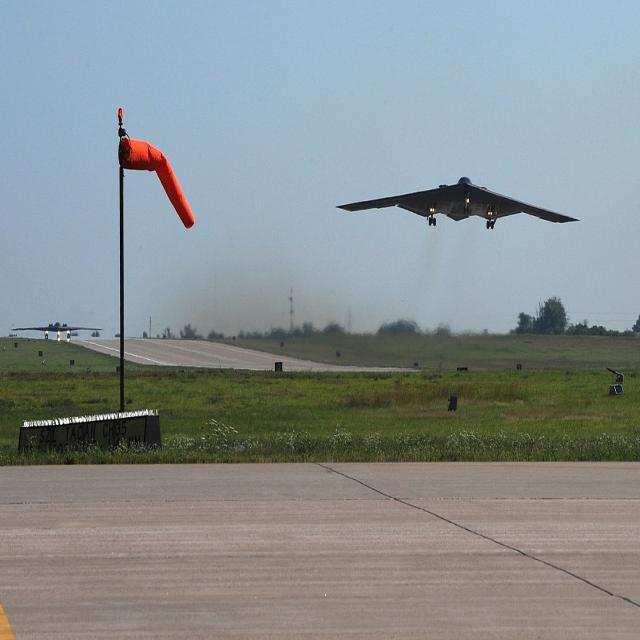MIL_Plane: (399, 48, 517, 102), (12, 321, 102, 339)
